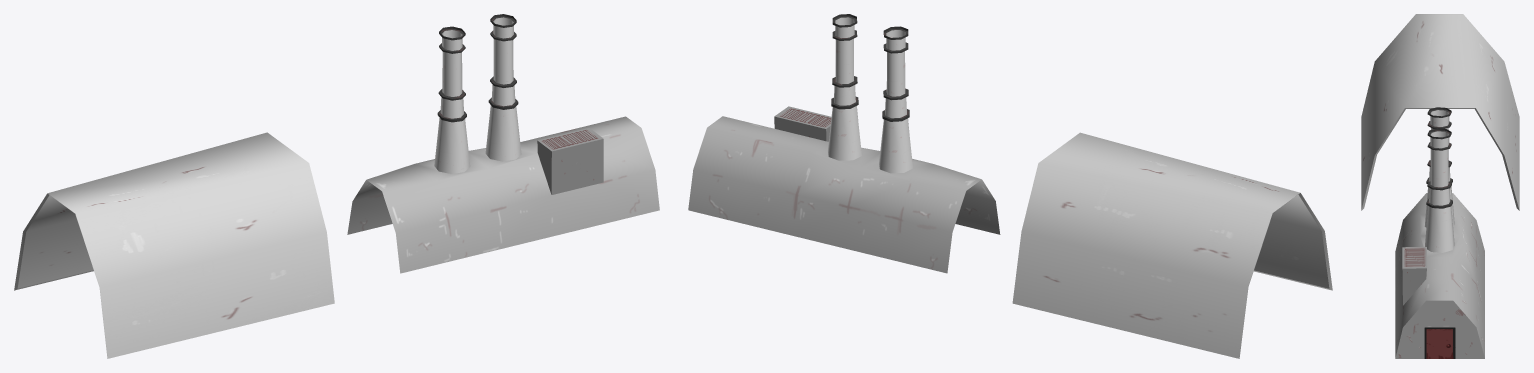
File: rreactoruv.FBX
3 views of the same model, side by side, from view 1: azimuth 30°, elevation 25°; view 2: azimuth 150°, elevation 25°; view 3: azimuth 270°, elevation 25° (orthographic). The views are drawn at different scales.
Visible parts, largest first — view 1: Sarcoph; view 2: Sarcoph; view 3: Sarcoph.
Part boxes in pixels (x1,y1,x2,y2): Sarcoph: (14,14,659,358); Sarcoph: (688,14,1332,358); Sarcoph: (1361,14,1519,358).
Size of the model in its own units: 1020 by 346 by 288.
1 material, 1 textured.
